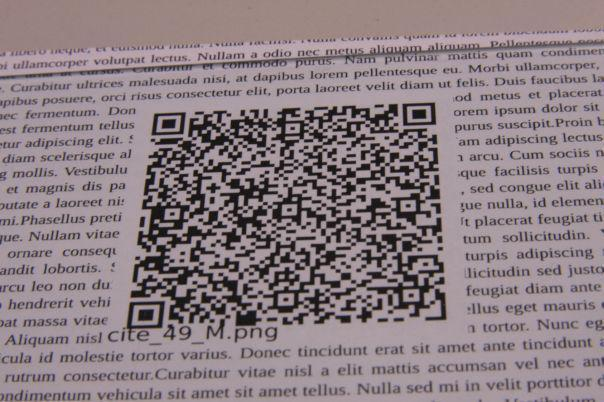qr_code: (127, 102, 447, 328)
